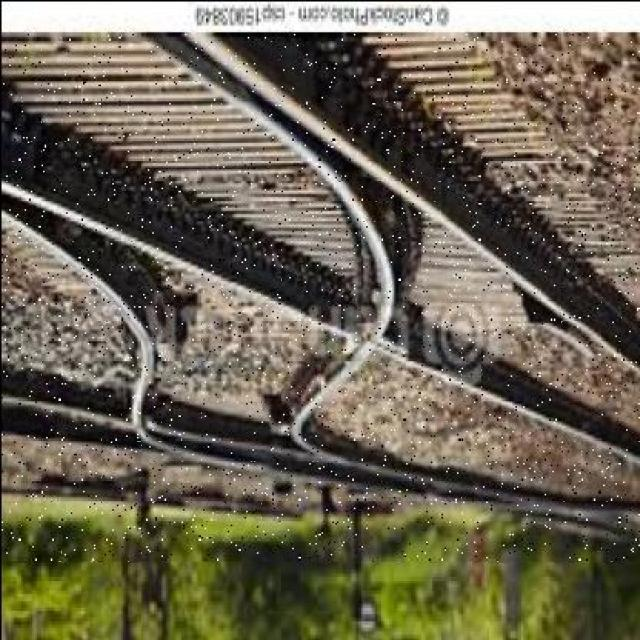rail: (1, 33, 640, 560)
